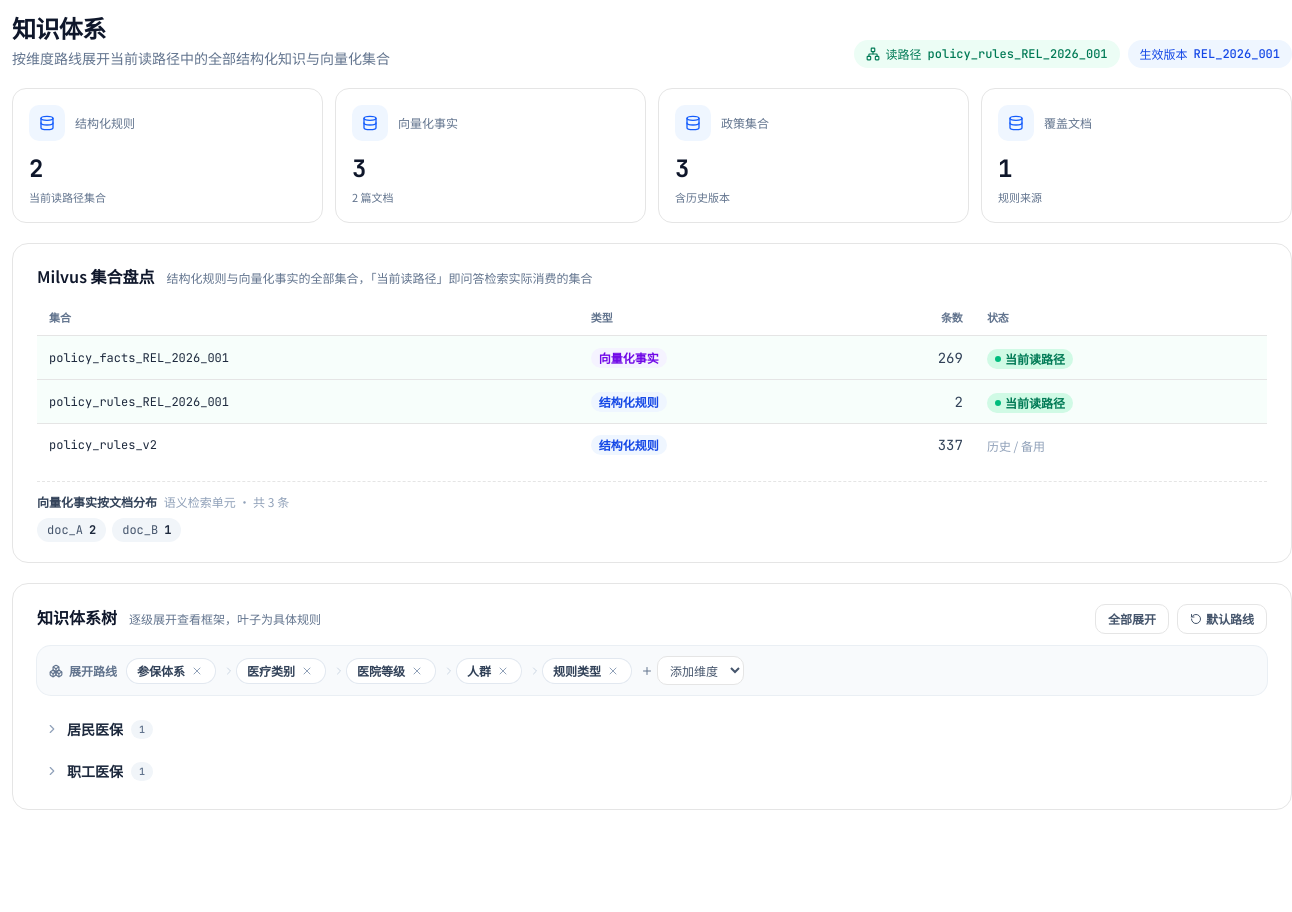
Test: KnowledgeMapPage › 按维度路线聚合成树，展开到叶子显示规则卡片
The width and height of the screenshot is (1292, 912).
Expected: the button "职工医保 1" is shown, [37,753,1267,789]
Expected: the button "居民医保 1" is shown, [37,711,1267,747]
// 精简路线为 参保体系→规则类型，便于两步展开到叶子
Click the button named "移除维度 医疗类别": (307, 671) [299,663,315,679]
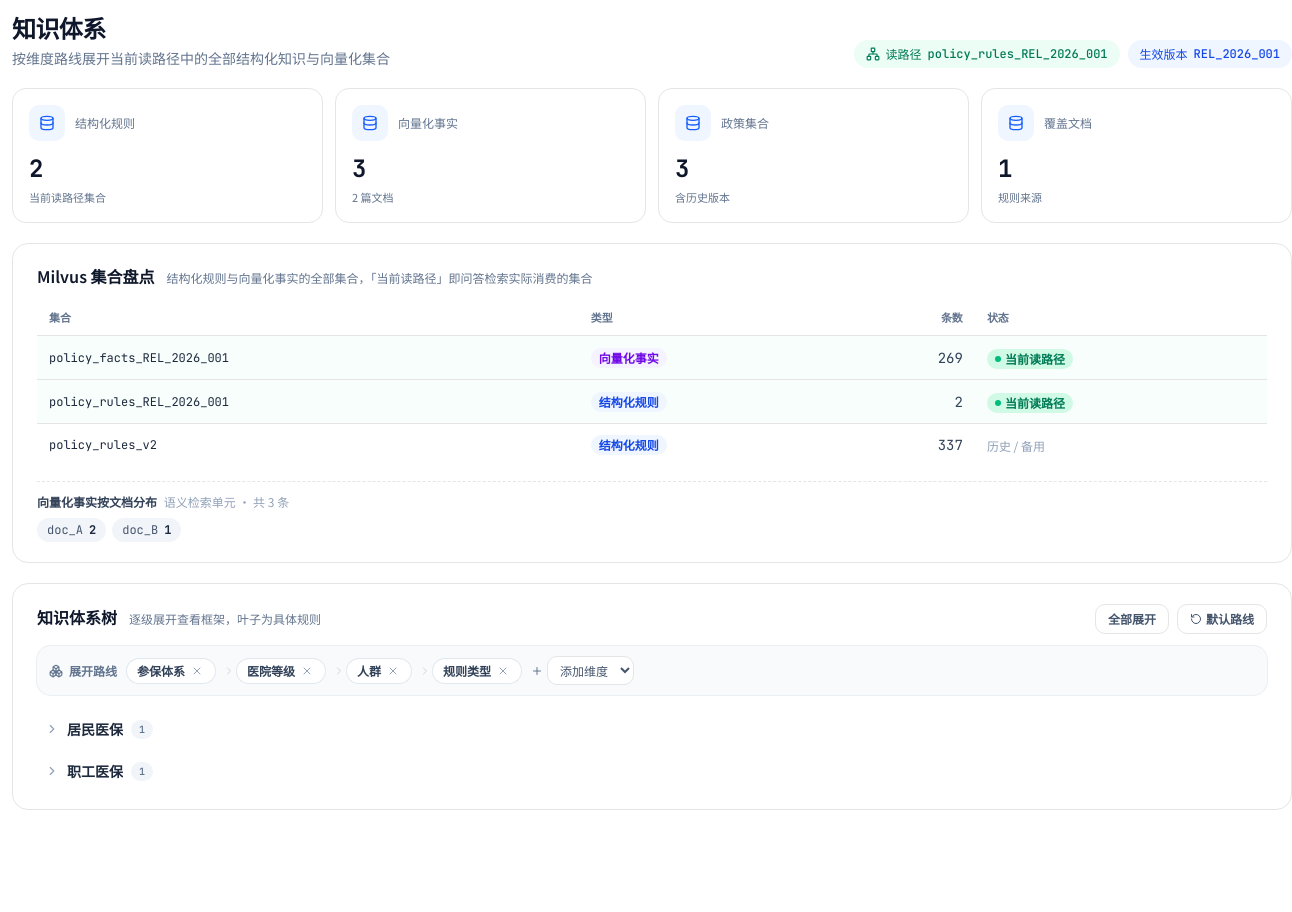
Click the button named "移除维度 医院等级": (307, 671) [299,663,315,679]
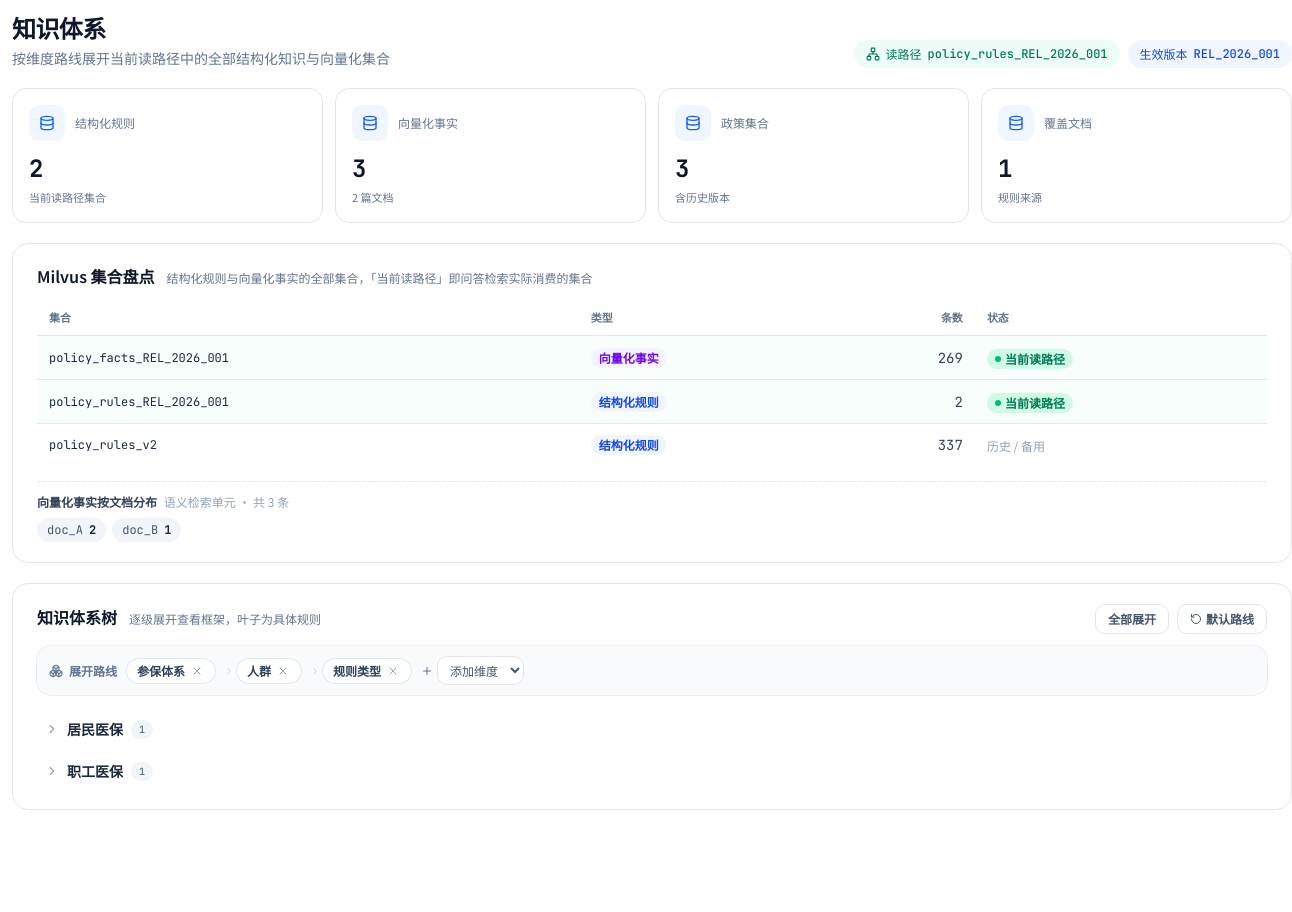
Click the button named "移除维度 人群": (283, 671) [275,663,291,679]
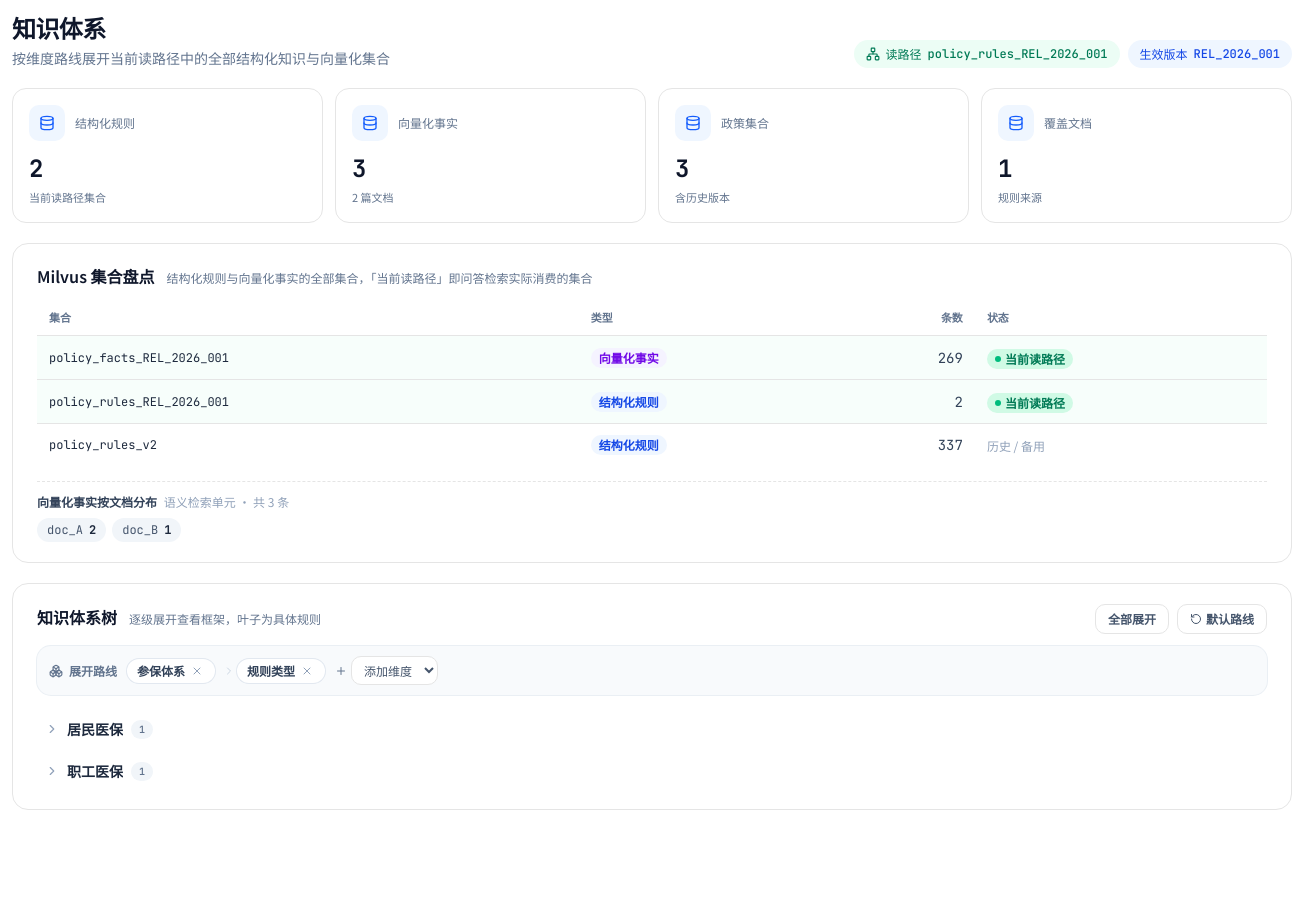
Click the button "职工医保 1": (95, 771) [37,753,1267,789]
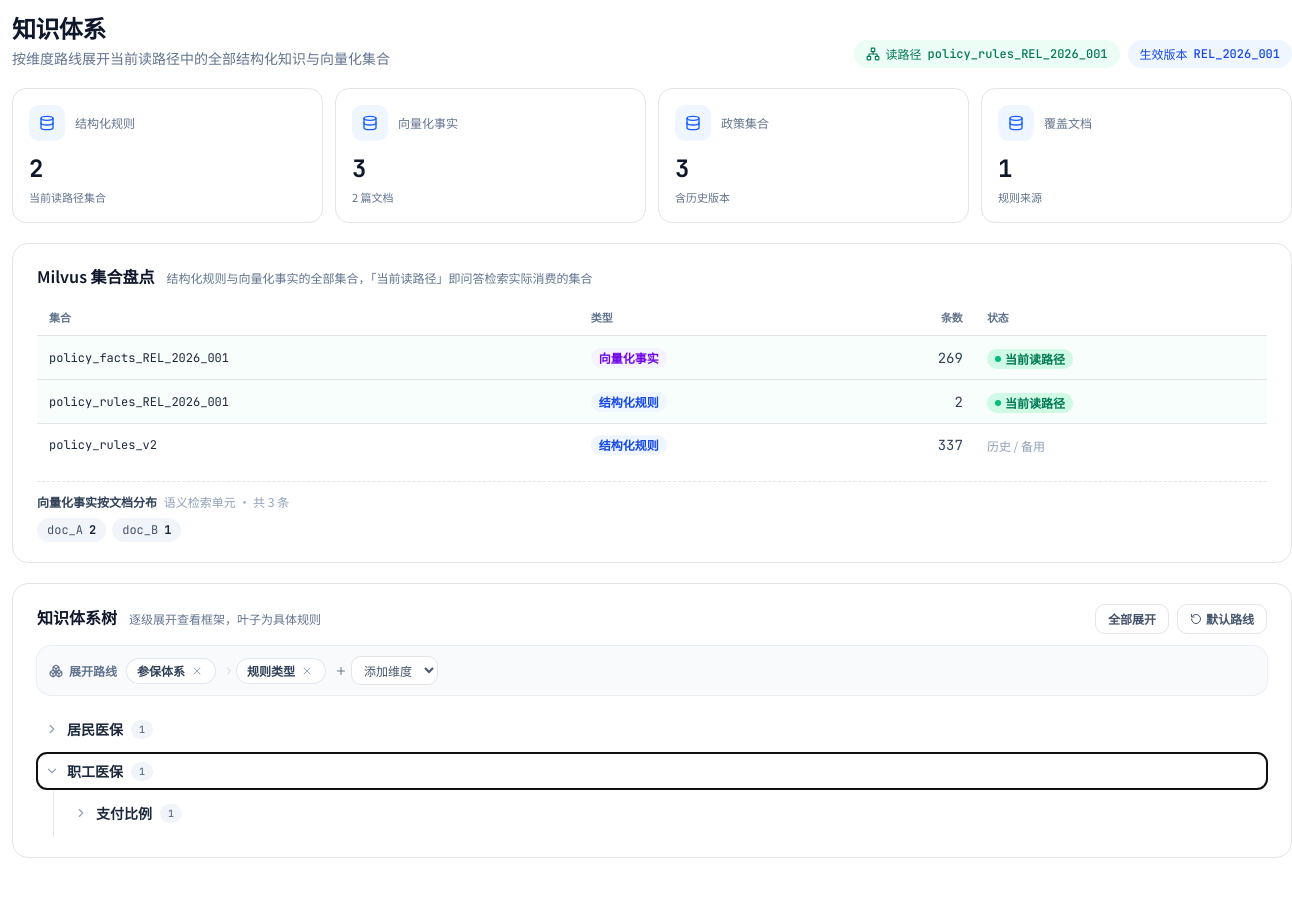
Click the button "支付比例 1": (124, 813) [66,795,1267,831]
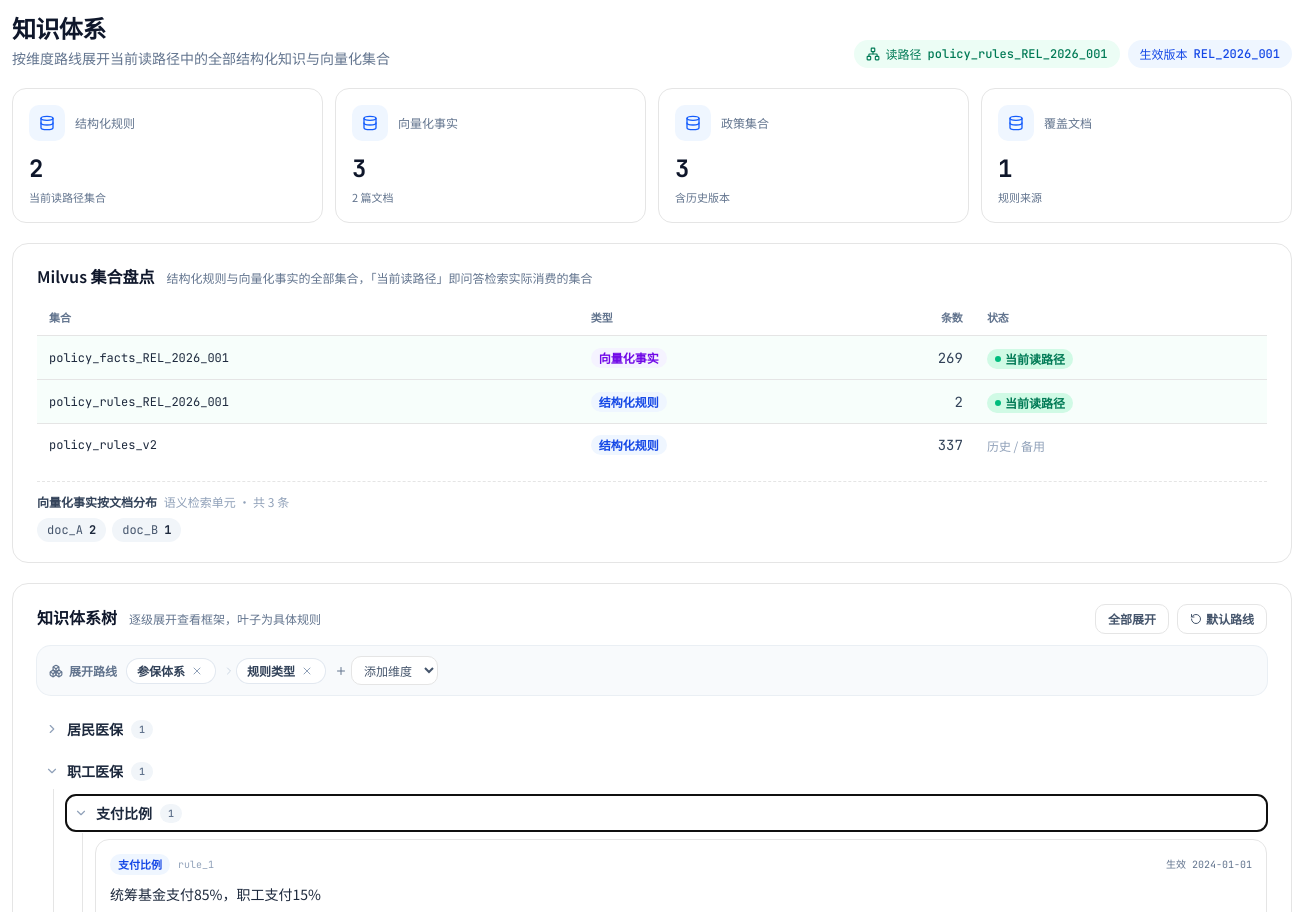
Expected: the text "统筹基金支付85%，职工支付15%" is shown, [110,884,321,904]
